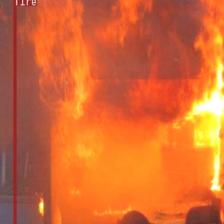fire: (13, 0, 224, 224)
